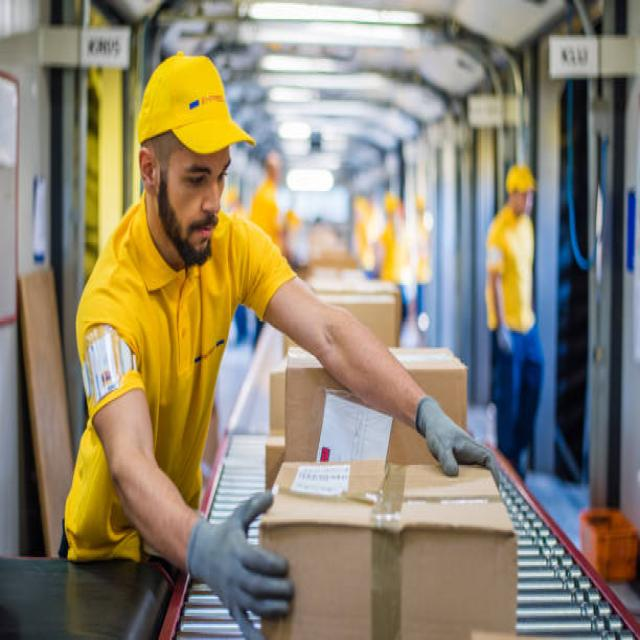gloves: (189, 489, 296, 640), (416, 398, 501, 489)
